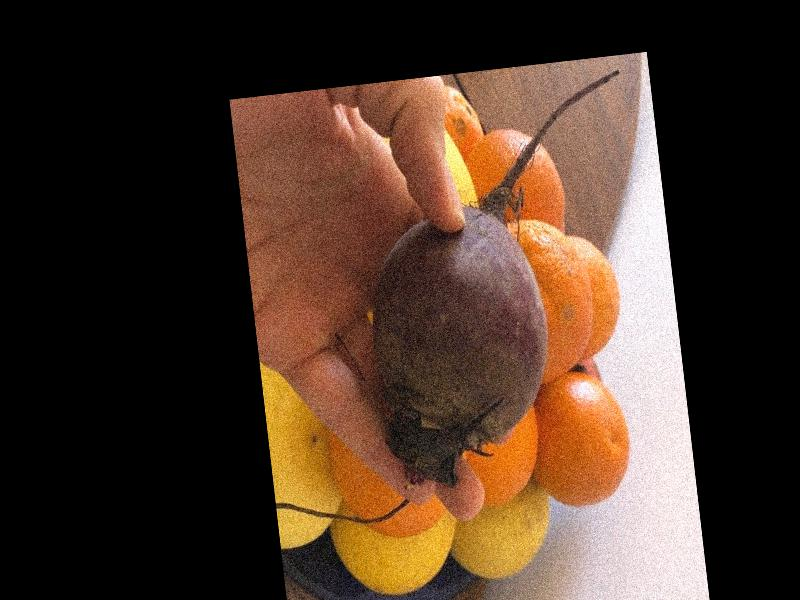Beet: (346, 70, 663, 487)
